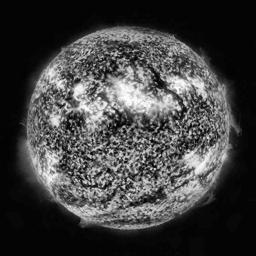solar flares: (114, 81, 154, 112), (40, 148, 62, 173), (185, 152, 211, 171), (163, 71, 187, 91), (152, 93, 174, 112), (78, 101, 100, 120), (72, 81, 89, 98), (189, 76, 204, 95)
sunspots: (98, 60, 122, 86), (126, 190, 164, 202), (112, 39, 133, 59), (111, 114, 130, 132), (173, 99, 189, 120), (63, 113, 82, 129), (149, 65, 162, 85), (180, 133, 197, 146), (136, 117, 156, 127), (63, 73, 81, 82)
